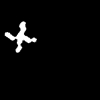single_crochet: (5, 22, 35, 51)
